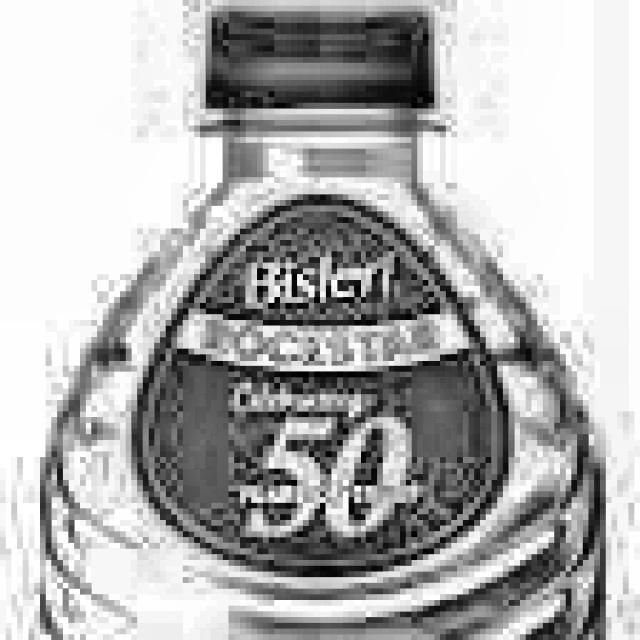bottle: (46, 0, 598, 640)
